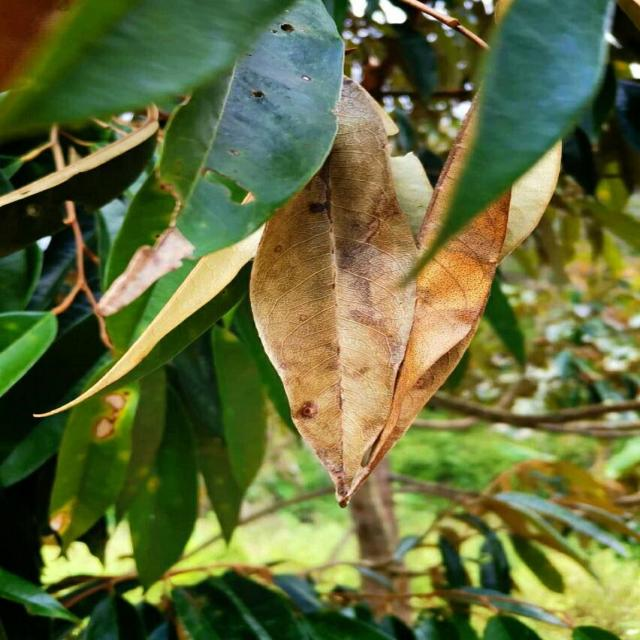blight: (271, 163, 468, 440)
